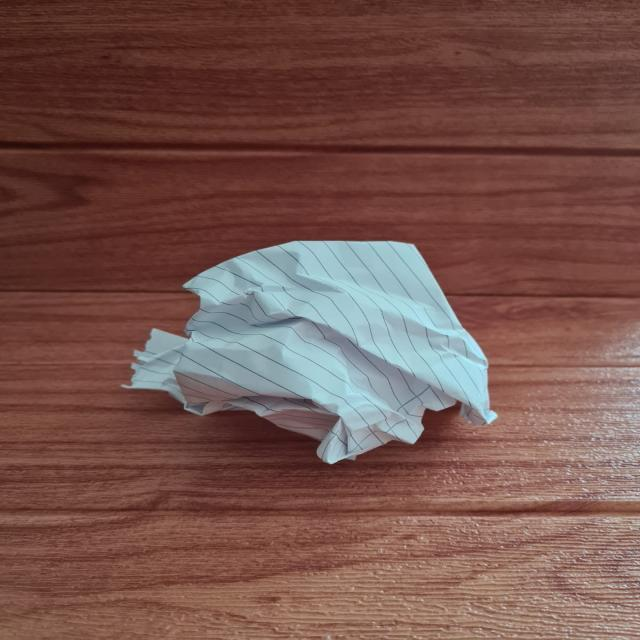Paper: (127, 241, 492, 466)
